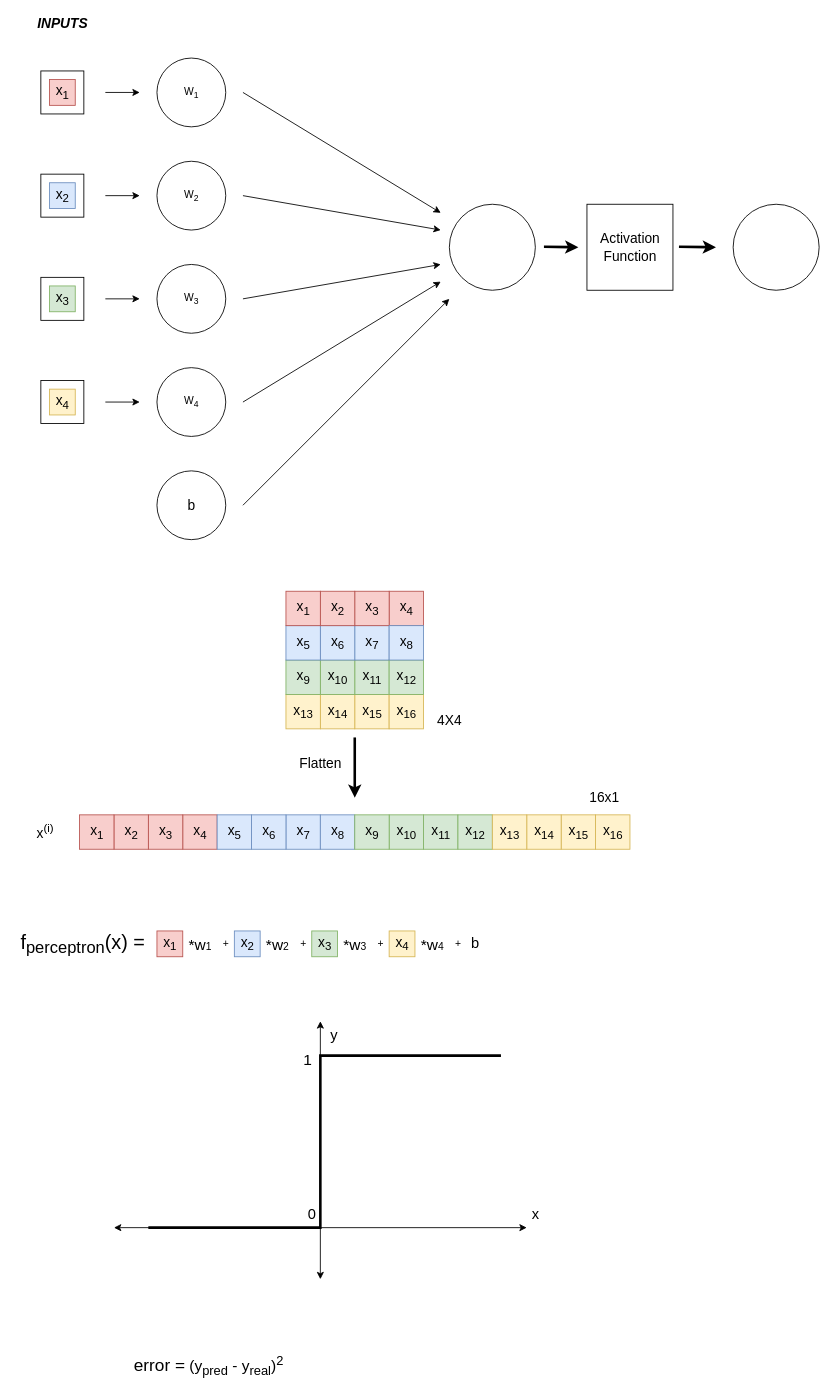
This 834x1397 diagram has some shape labels left out. The shapes that lost their labels are listed below. From the top down, each one's centre as x and y in pixels, then its label:
the point at 491,246: f perceptron (x)
the point at 775,246: OUTPUT
